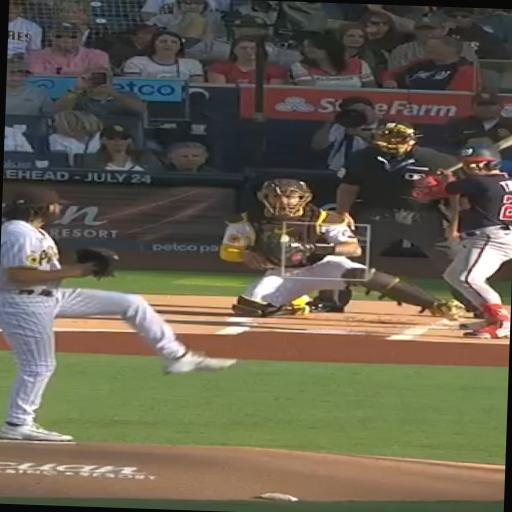bat: (494, 135, 511, 150)
